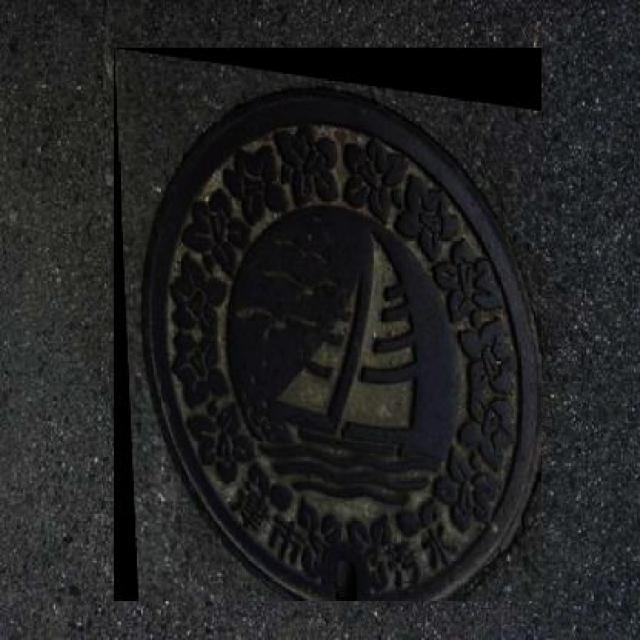Manhole: (114, 49, 542, 602)
